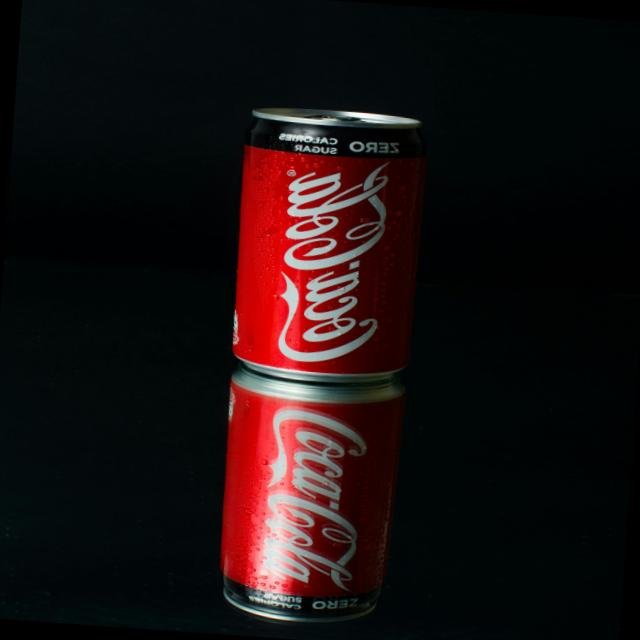cocacola: (208, 88, 447, 394), (189, 382, 426, 630)
